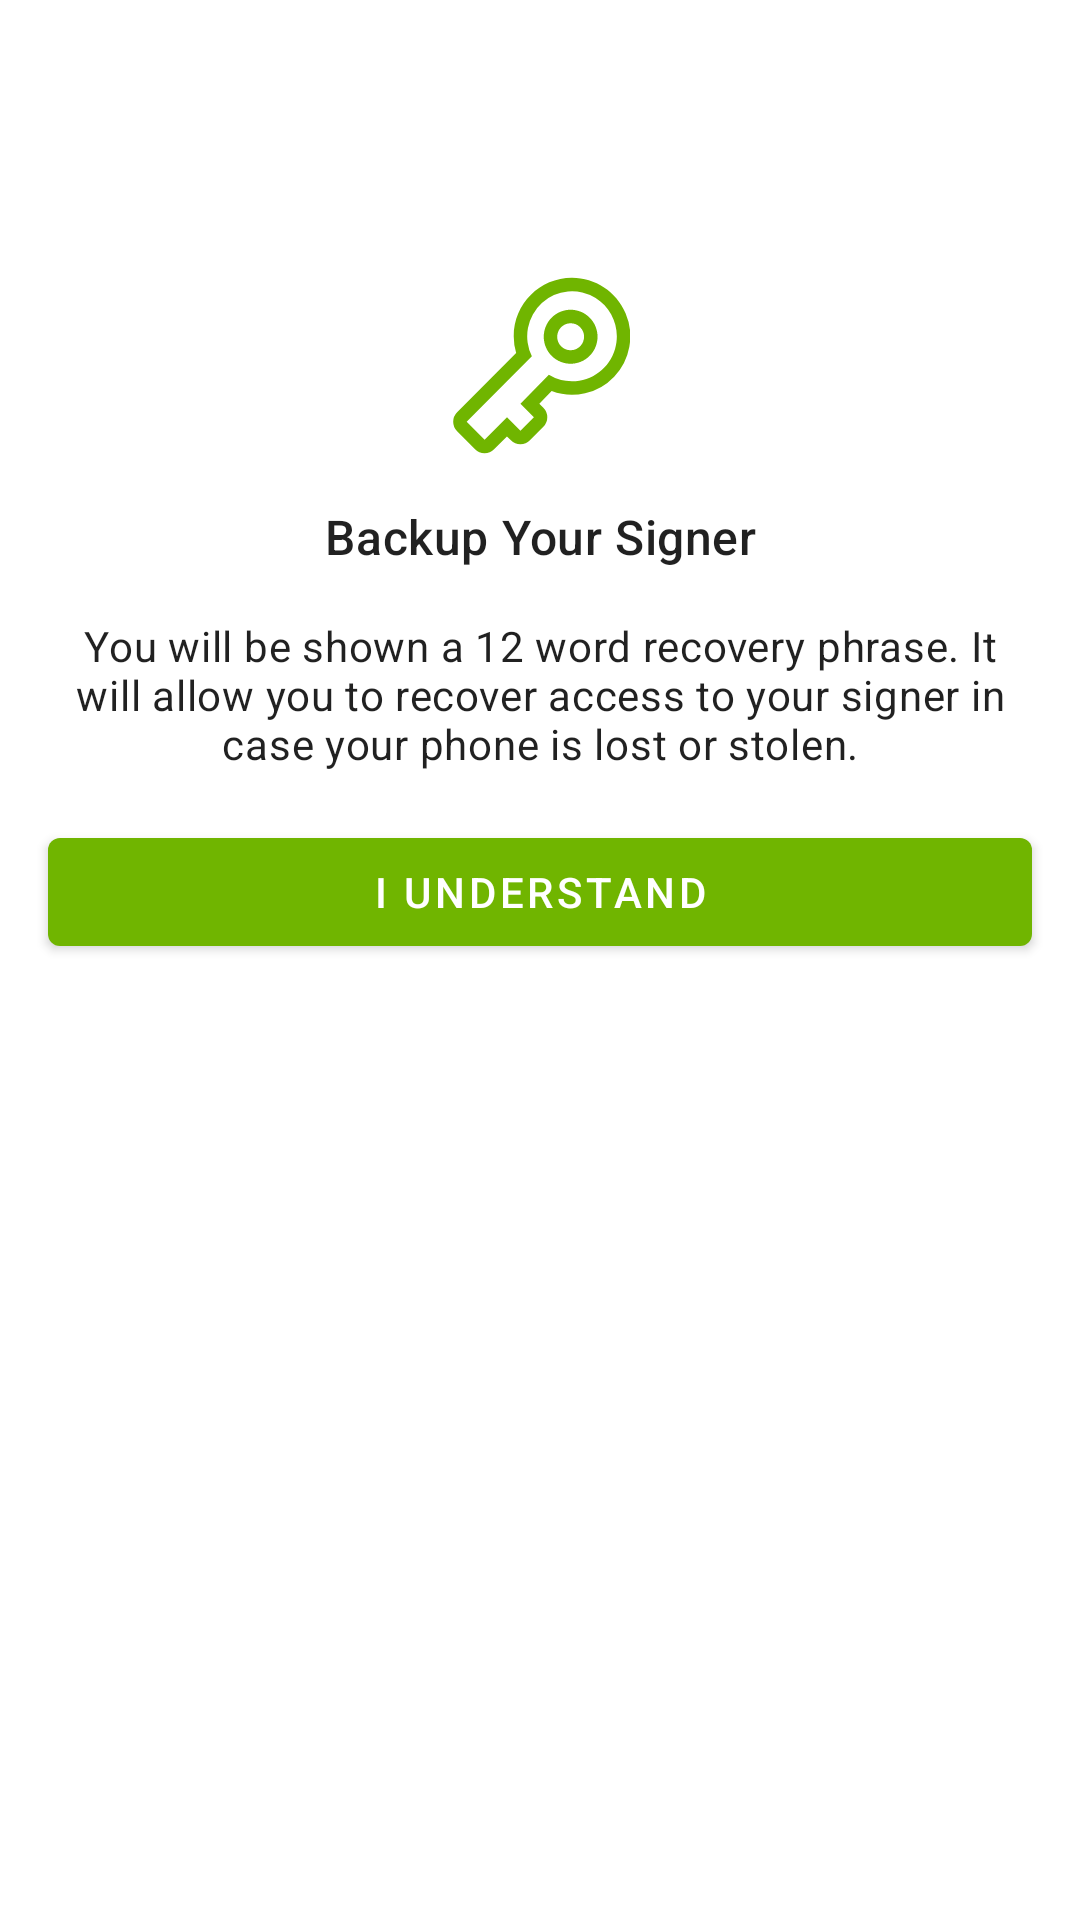

Screen size 1080*1920. Icon name, then its center in pixels as (x=x, y=y):
key: (x=541, y=365)
